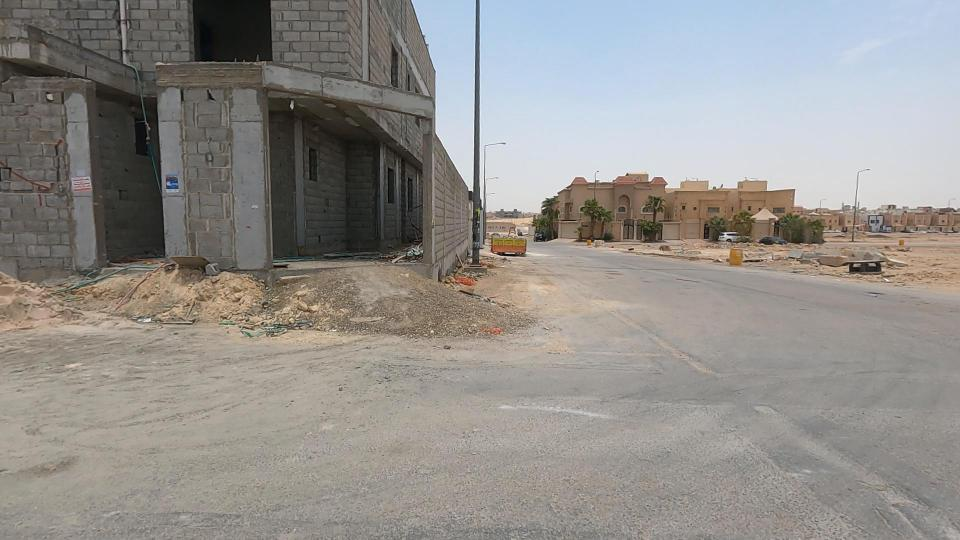GARBAGE: (169, 275, 329, 376), (46, 234, 199, 314), (122, 229, 265, 296), (114, 278, 231, 357), (403, 248, 524, 316), (817, 238, 909, 299), (756, 231, 837, 289), (371, 222, 445, 284), (460, 310, 537, 358)
